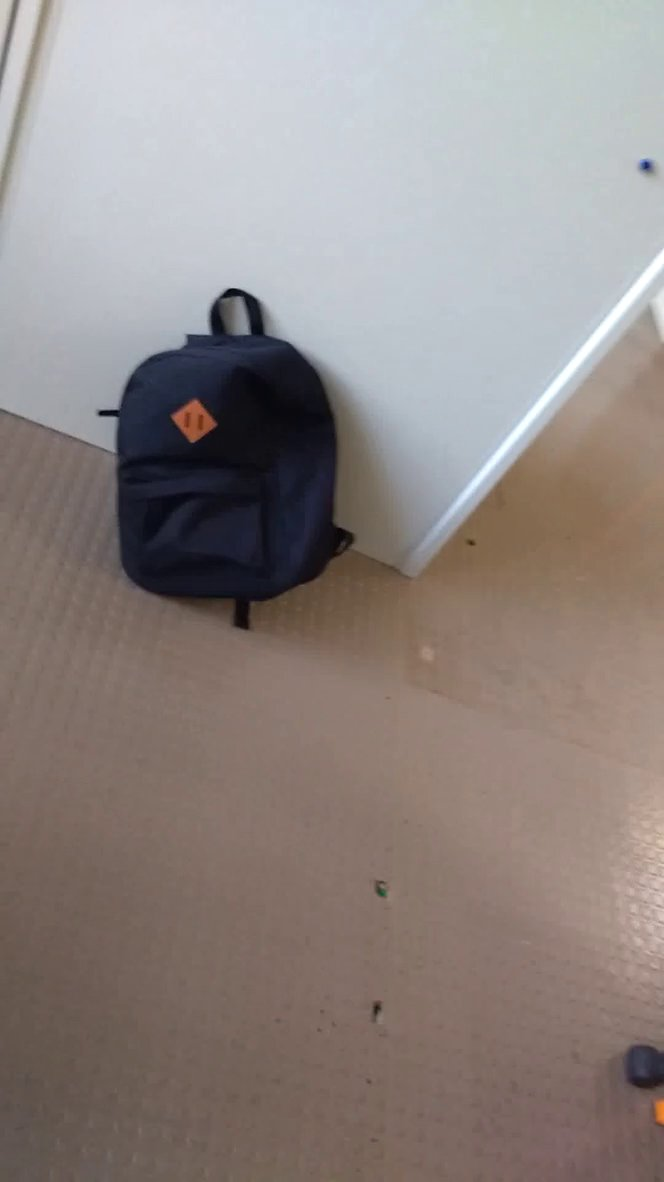bag: (86, 281, 374, 644)
